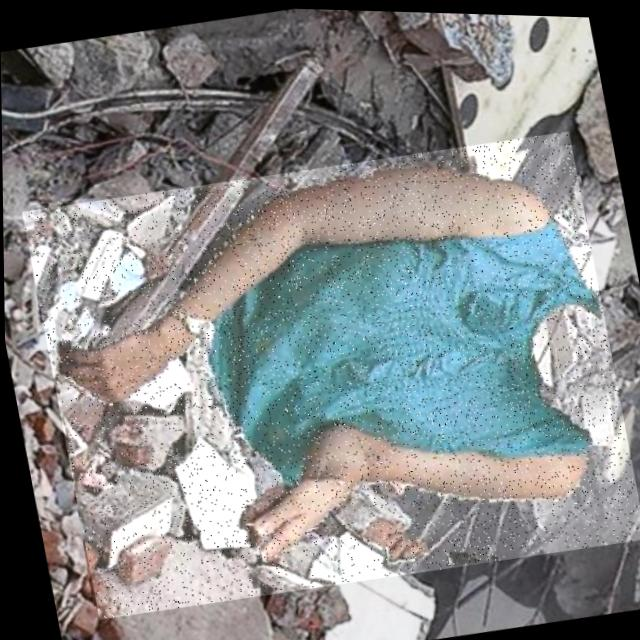Person in Rubble: (19, 115, 640, 631)
